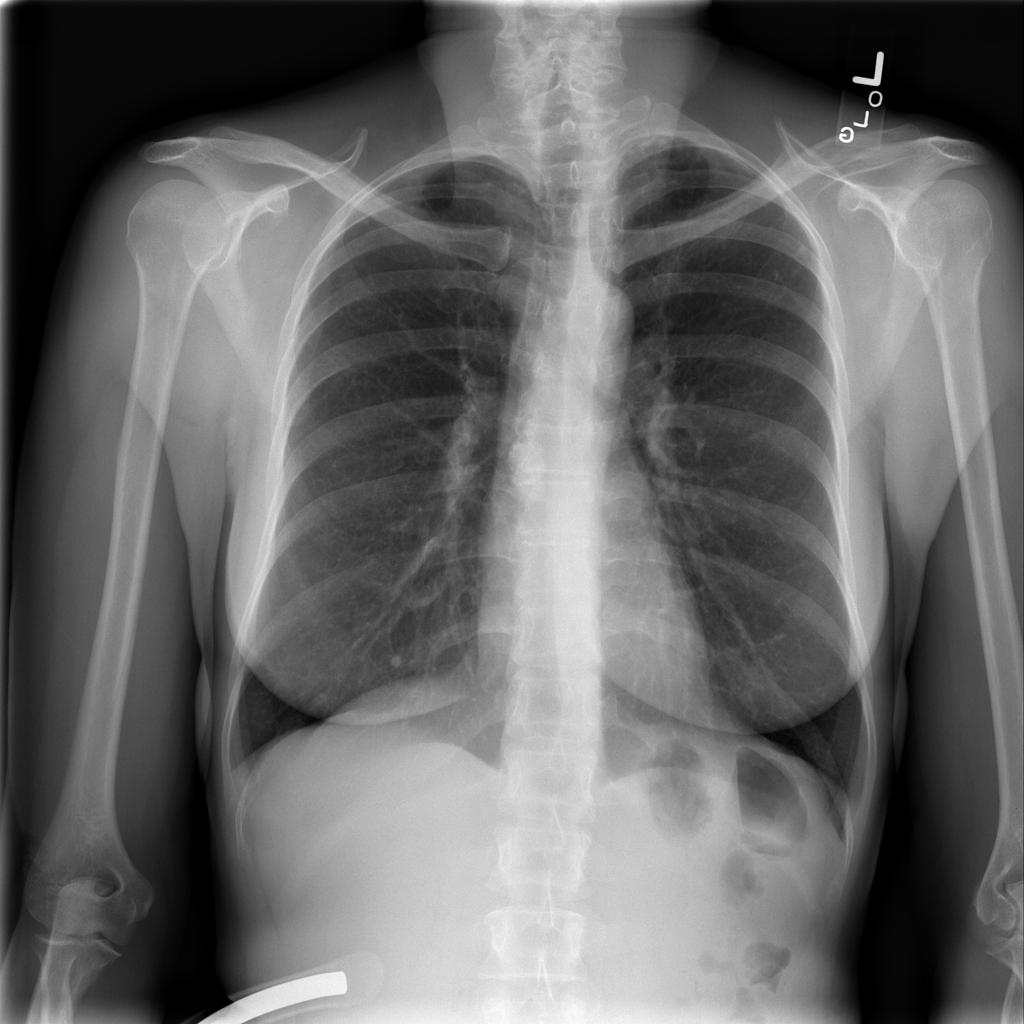nodule: (499, 422, 560, 503), (388, 649, 411, 674)
